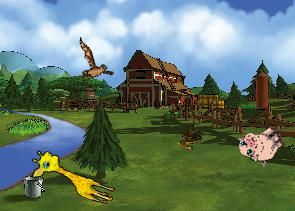eagle: (63, 37, 121, 91)
giraffe: (26, 146, 121, 207)
pig: (233, 116, 289, 171)
